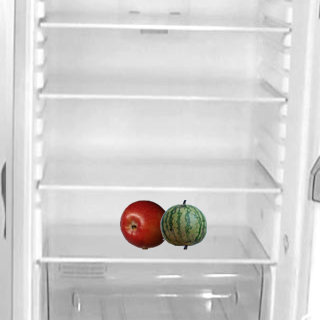Apple Braeburn: (119, 199, 169, 249)
Watermelon: (158, 199, 208, 249)
